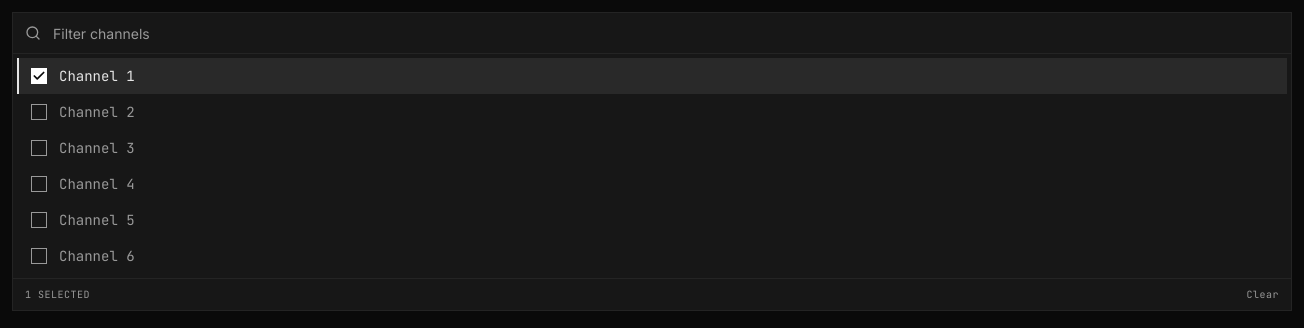
Test case: configuration controls › filters and clears multi-select values
Type "Channel 7" into the field labelled "Filter channels" at coordinates (652, 33), box 13,13 -> 1291,53
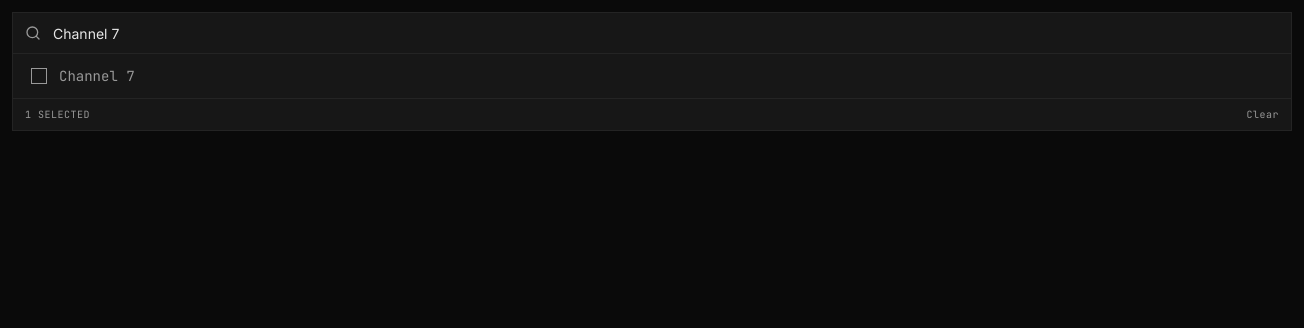
Check: the text "Channel 1" is gone
Check: the text "Channel 7" is shown, box 59,67 -> 135,85
Click the button "Clear" at coordinates (1263, 114), box 1246,107 -> 1279,122
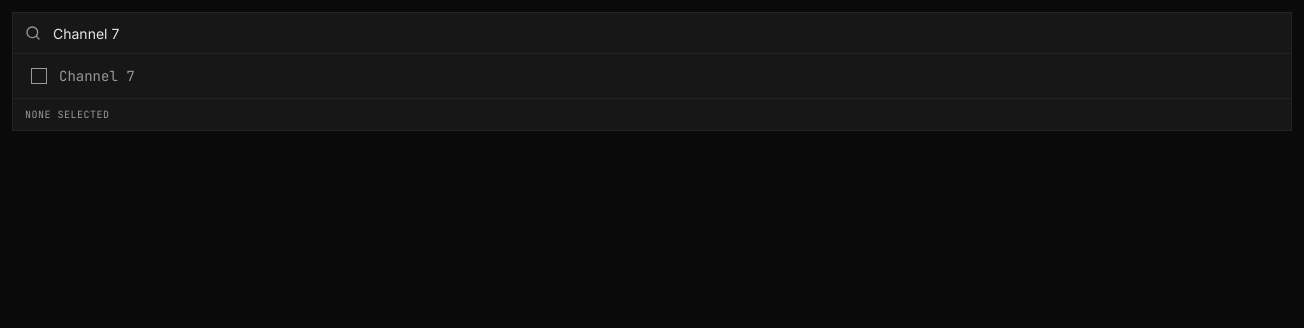
Check: the text "None selected" is shown, box 25,107 -> 110,122
